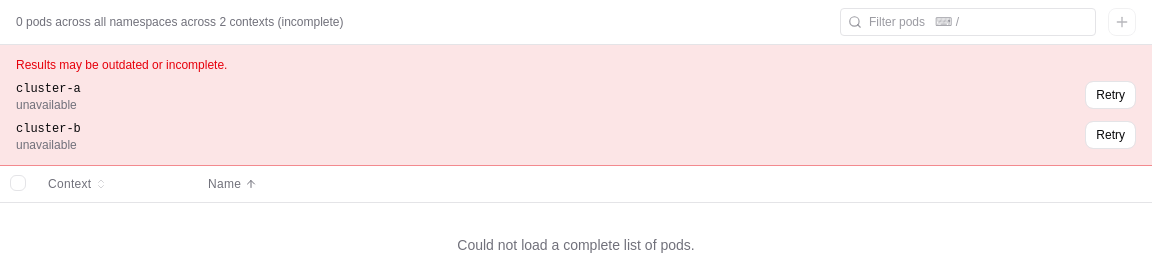
ResourceTable load failures › clears only the recovered context error when several contexts fail
Step 1. Click the button with aria-label "Retry loading pods from cluster-a" → [1111, 95], box [1085,81,1136,109]
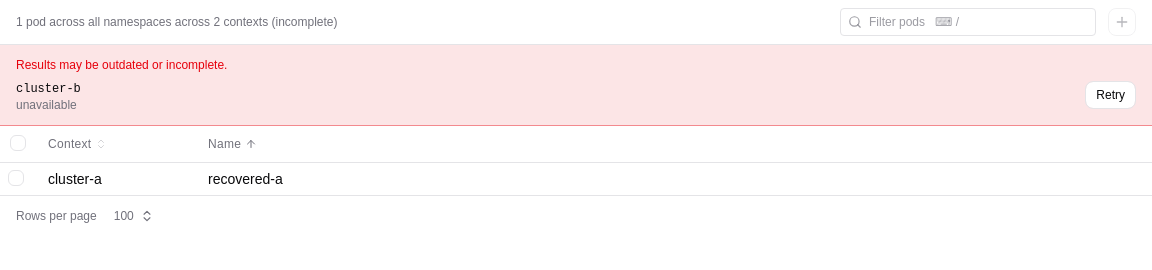
Check: the message "Results may be outdated or incomplete. cluster-b unavailable Retry" is shown, box [0,45,1151,126]
Check: the text "recovered-a" is shown, box [208,171,283,187]
